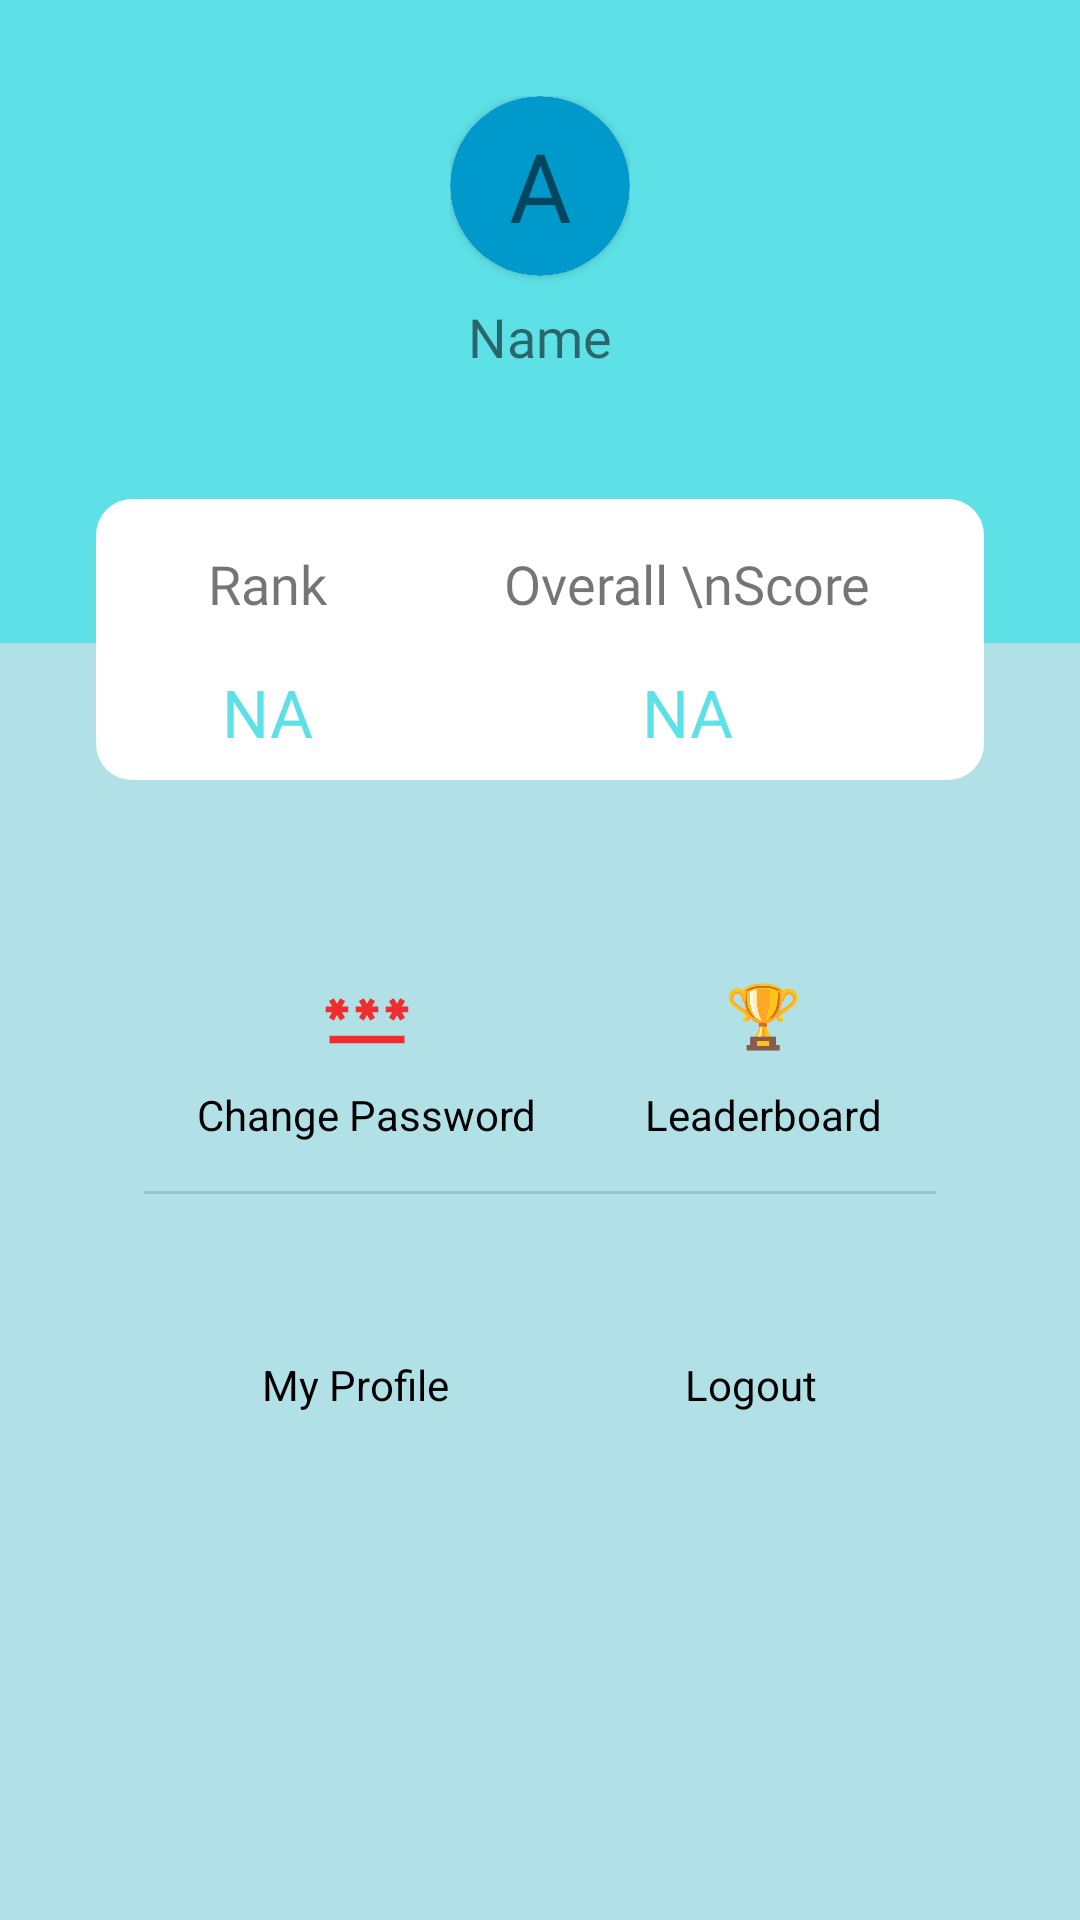

Named icons in this screenshot (1080 x 1920) and their bounding boxes, (x1, y1, x2, y2):
trophy: (729, 983, 798, 1051)
